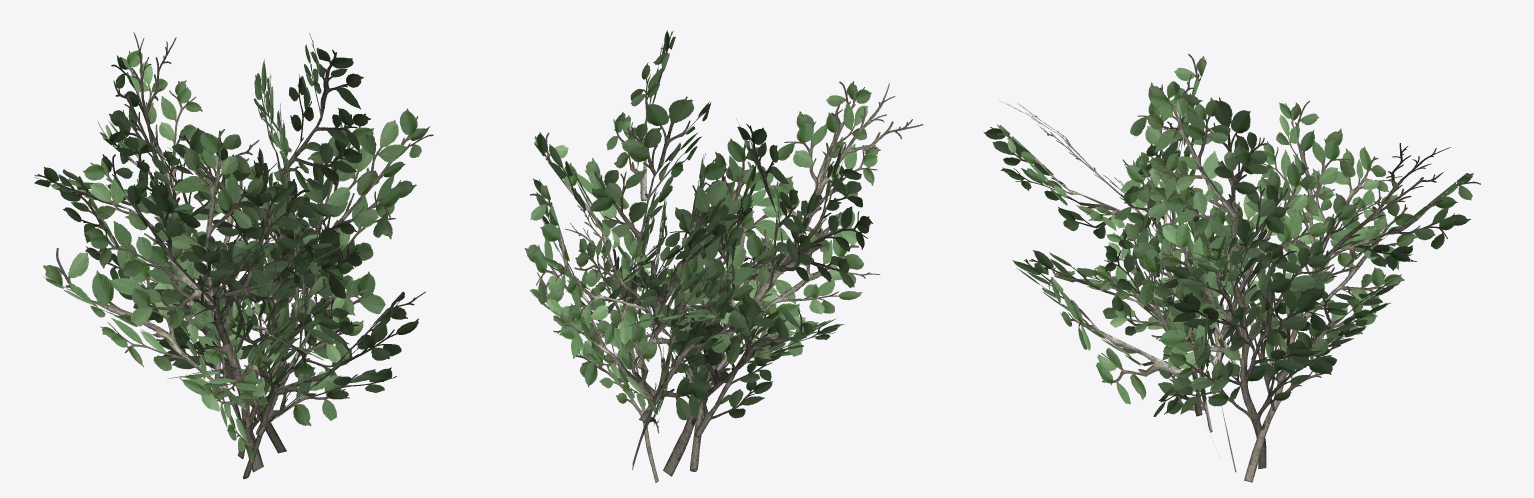
The model's file is Bush - Bush2-frBJerN1.glb.
3 views of the same model, side by side, from view 1: azimuth 30°, elevation 25°; view 2: azimuth 150°, elevation 25°; view 3: azimuth 270°, elevation 25° (orthographic). The views are drawn at different scales.
Parts seen in each view (by area): view 1: Bush2_LOD0; view 2: Bush2_LOD0; view 3: Bush2_LOD0.
Part boxes in pixels (left/top/right/bottom): Bush2_LOD0: left=34, top=32, right=433, bottom=478; Bush2_LOD0: left=524, top=30, right=923, bottom=482; Bush2_LOD0: left=983, top=54, right=1480, bottom=482.
Bounding box in the file's own units: 1.51 × 1.71 × 2.04.
1 material, 1 textured.
